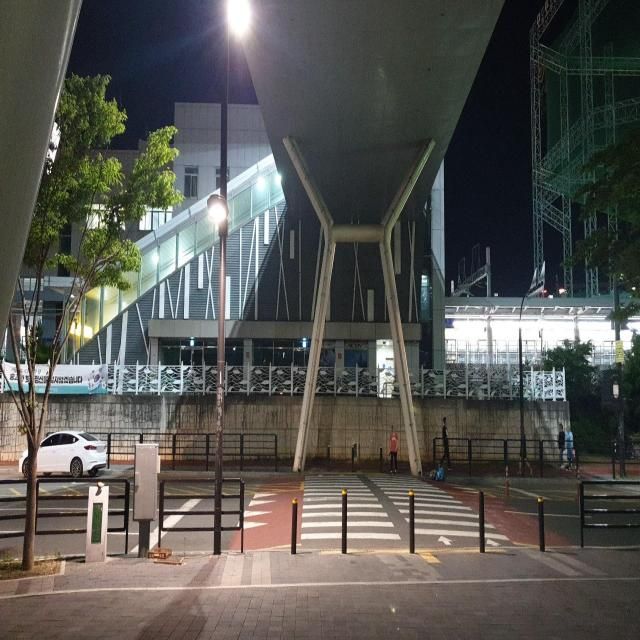횡단보도: (300, 473, 511, 547)
